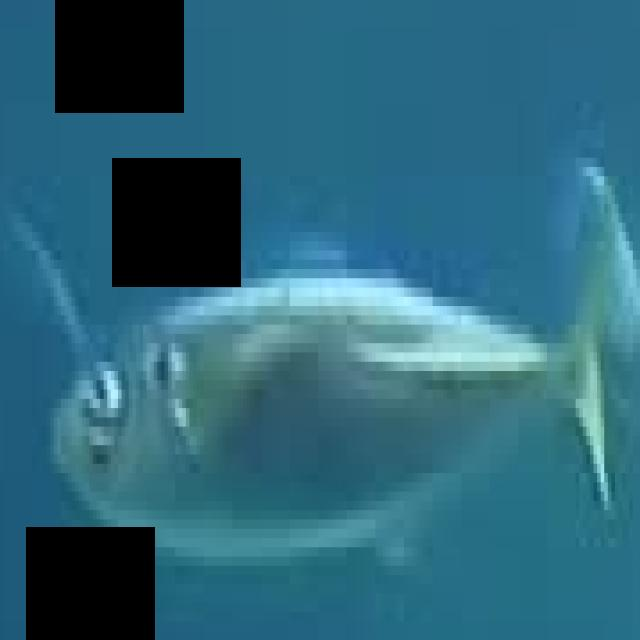fish: (3, 9, 640, 639)
